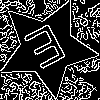E: (22, 22, 73, 79)
